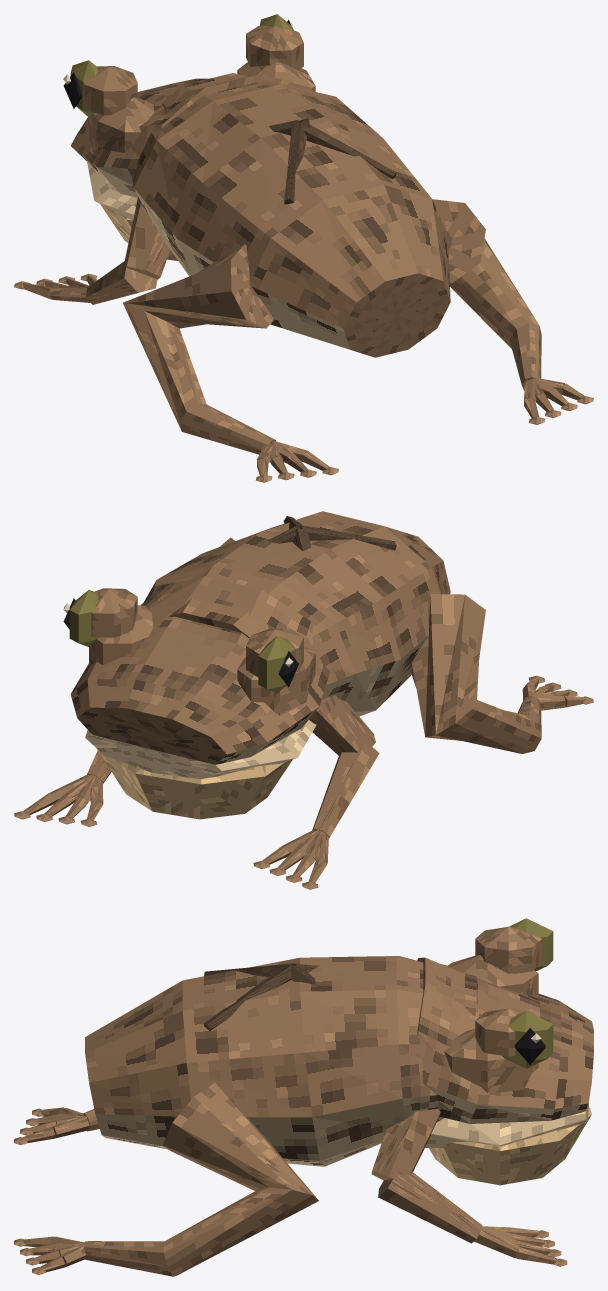
The model's file is mon_vocal_bigfrog.glb.
The picture shows the model from 3 angles, top to bottom: view 1: azimuth 30°, elevation 25°; view 2: azimuth 150°, elevation 25°; view 3: azimuth 270°, elevation 25°; orthographic projection.
Parts seen in each view (by area): view 1: closed_body; view 2: closed_body; view 3: closed_body.
Part boxes in pixels (x1,y1,x2,y2): closed_body: (14,14,593,482); closed_body: (14,511,593,889); closed_body: (14,918,593,1276).
Size of the model in its own units: 0.5806 by 0.3534 by 0.7993.
1 material, 1 textured.
